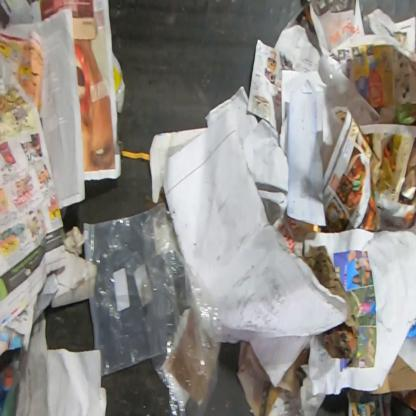cardboard: (50, 249, 88, 308), (367, 355, 415, 395), (112, 48, 127, 114)
soft_plastic: (82, 200, 225, 415)
